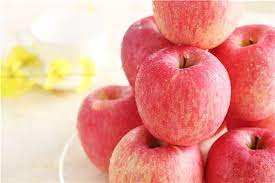apple: (136, 46, 231, 145), (215, 23, 275, 121), (206, 127, 274, 183)
